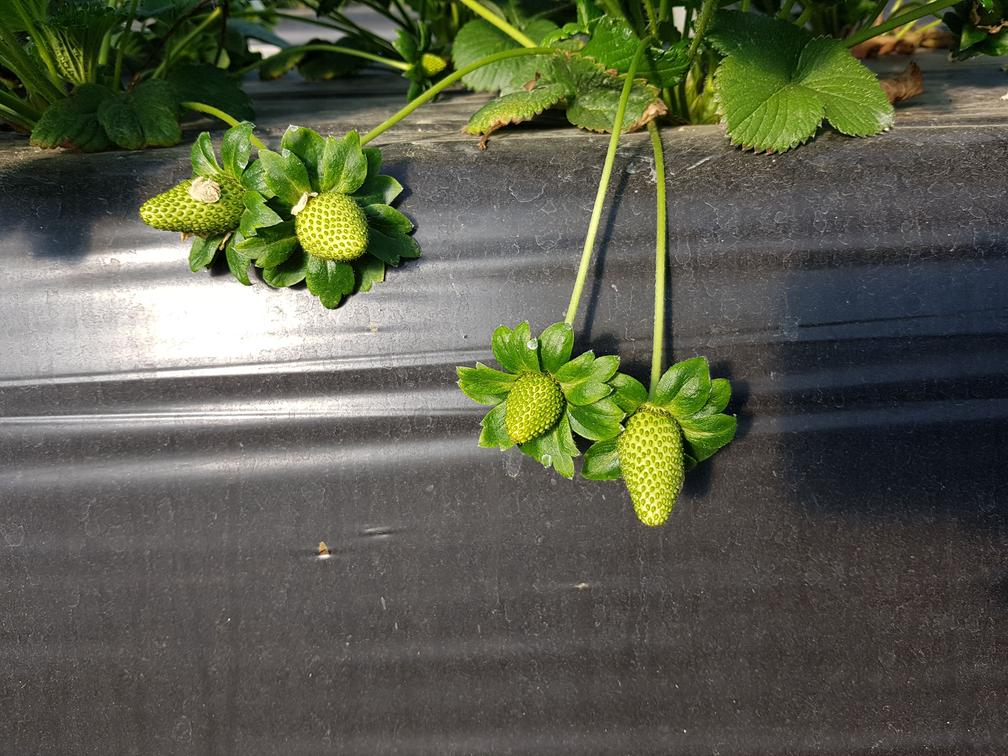Unripe: (613, 405, 693, 535), (139, 171, 243, 235), (294, 184, 377, 263), (496, 374, 566, 446)
